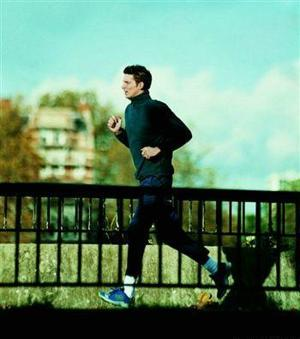person: (99, 65, 232, 309)
